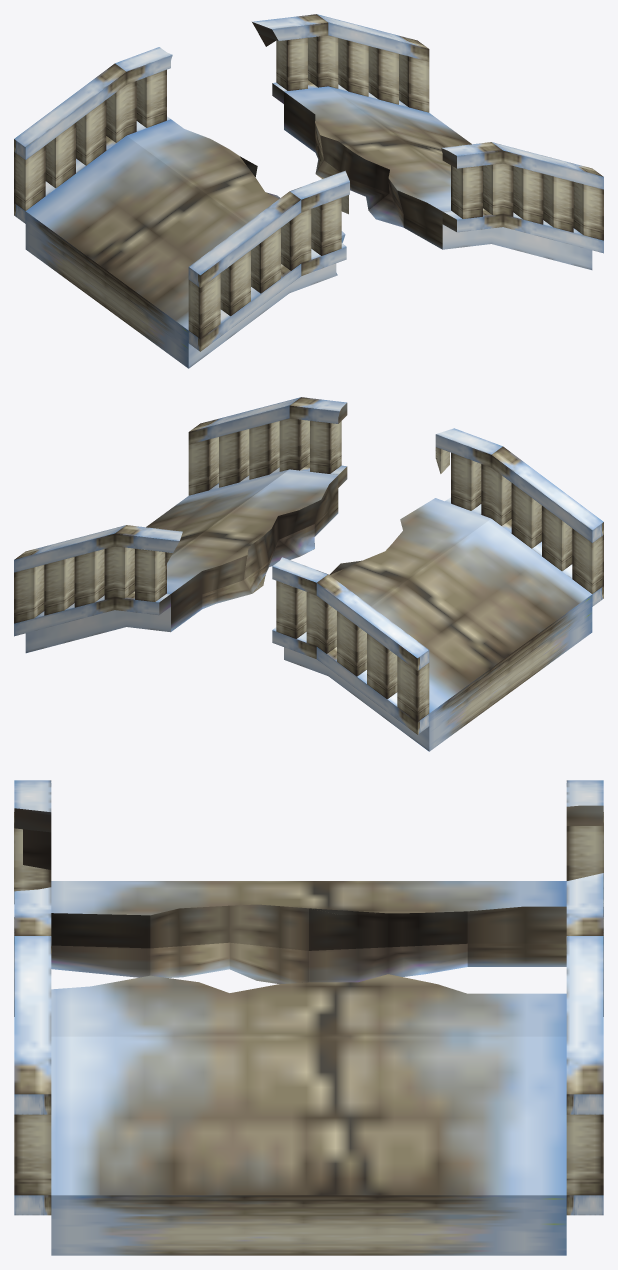
File: Poly_World_Map_Bridge_01_Broken_Snow.obj
3 renders of one model, top to bottom at view 1: azimuth 30°, elevation 25°; view 2: azimuth 150°, elevation 25°; view 3: azimuth 270°, elevation 25°, orthographic. The views are drawn at different scales.
Visible parts, largest first — view 1: Grid.002, Grid.003, Grid.001, Grid.004; view 2: Grid.002, Grid.003, Grid.001, Grid.004; view 3: Grid.002, Grid.001, Grid.003, Grid.004.
Boxes of the visible parts, x1,y1,x2,y2 form: Grid.002: (25, 86, 592, 368); Grid.003: (14, 35, 603, 338); Grid.001: (14, 14, 603, 351); Grid.004: (136, 34, 482, 255); Grid.002: (25, 469, 592, 751); Grid.003: (14, 418, 603, 721); Grid.001: (14, 397, 603, 734); Grid.004: (135, 421, 481, 638); Grid.002: (51, 881, 566, 1255); Grid.001: (14, 780, 603, 1215); Grid.003: (14, 946, 603, 1195); Grid.004: (14, 812, 603, 1016).
Size of the model in its own units: 1.4 by 0.5341 by 1.12.
Materials: 1 (1 with a texture image).
